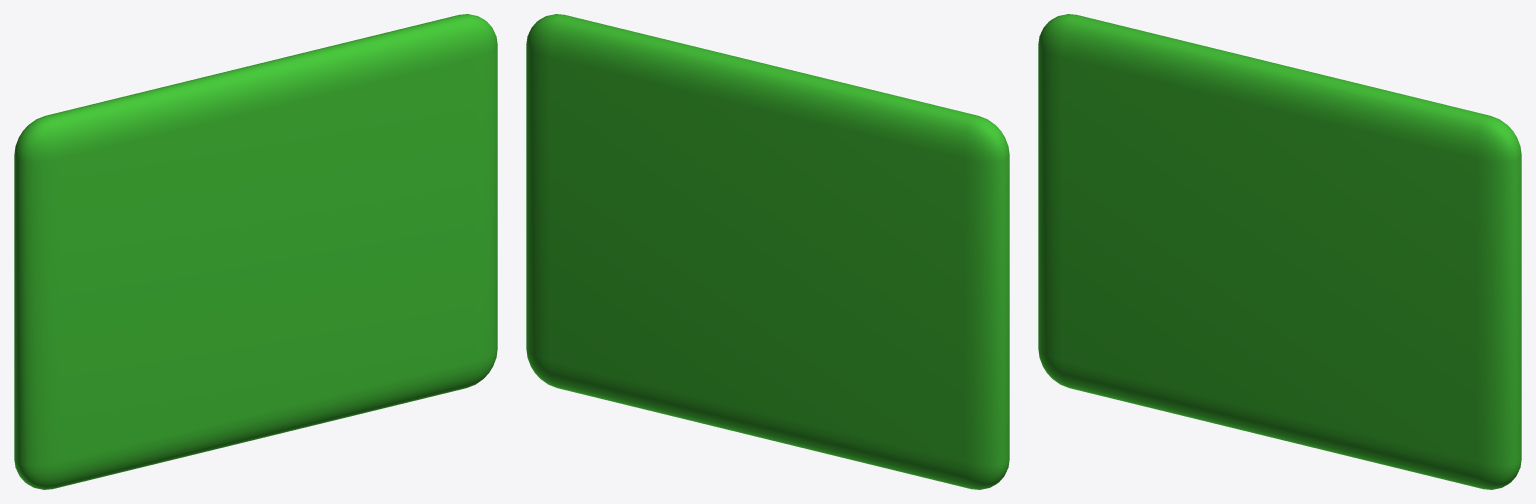
The model's file is leaderboard.glb.
3 renders of one model, left to right at view 1: azimuth 30°, elevation 25°; view 2: azimuth 150°, elevation 25°; view 3: azimuth 330°, elevation 25°, orthographic.
Parts seen in each view (by area): view 1: Cube; view 2: Cube; view 3: Cube.
Boxes of the visible parts, x1,y1,x2,y2 form: Cube: (14,14,497,489); Cube: (526,14,1009,489); Cube: (1038,14,1521,489).
Size of the model in its own units: 6.36 by 4.7 by 0.4984.
